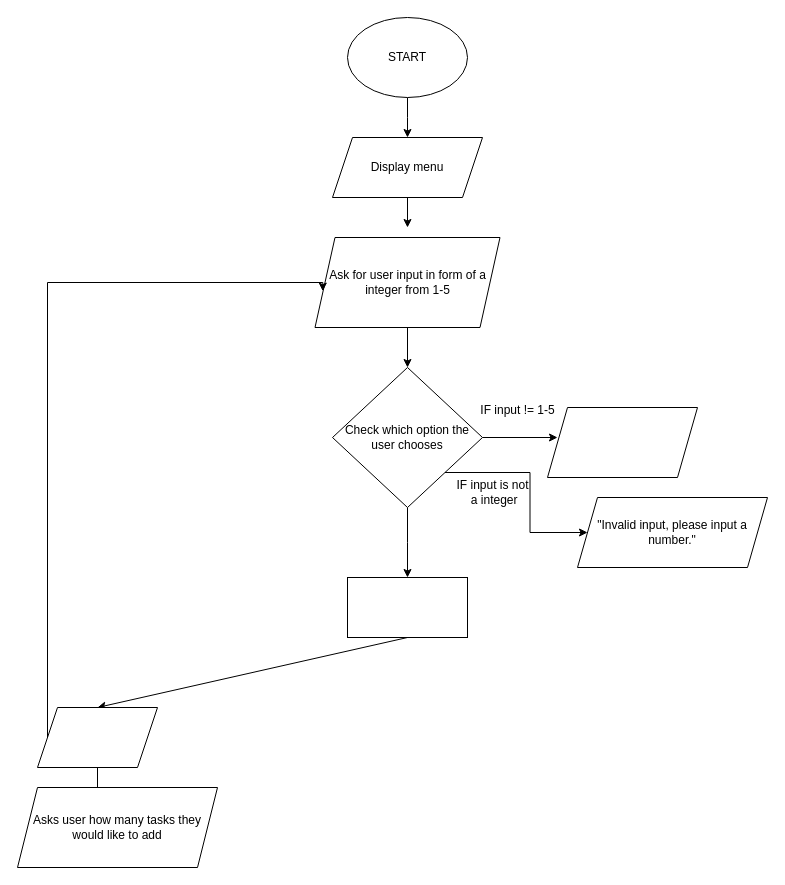
Image size: 785x885. Some labels were removed from this diagram. Each missing label, with the box of its shape:
"Invalid number, please choose the valid range": (546, 406, 698, 478)
Executes corresponding function based on user's choice: (346, 576, 468, 638)
Option 1 - Adding tasks: (36, 706, 158, 768)
